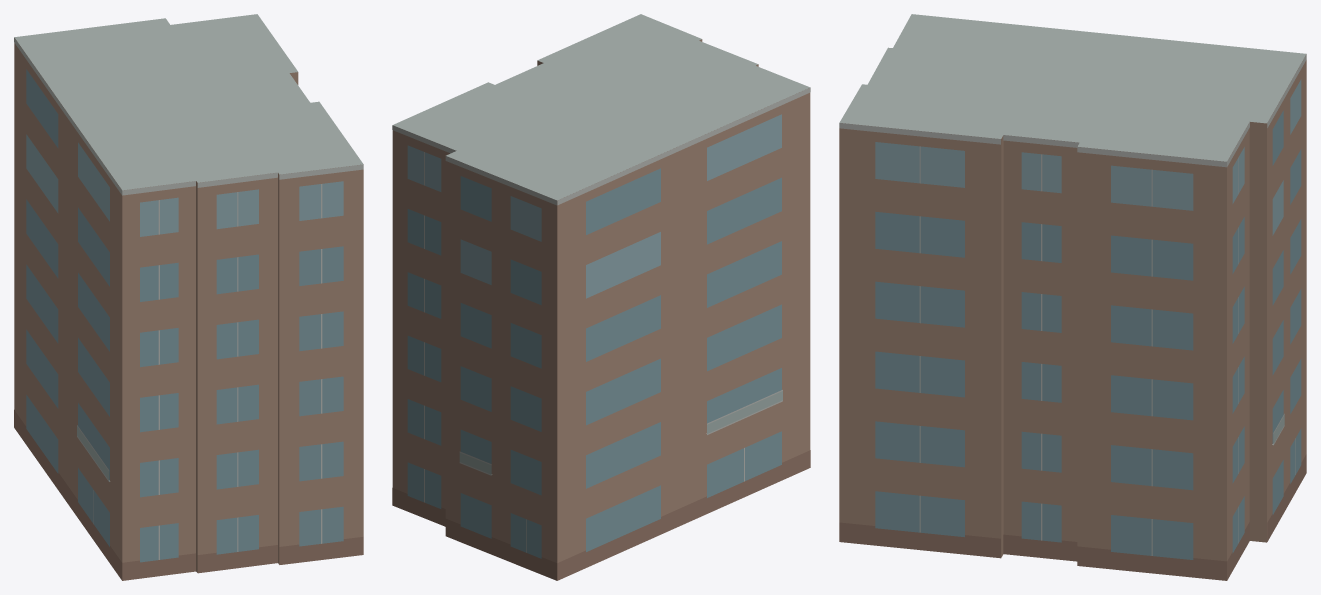
Rendered from survey-upis-32706601.glb.
The picture shows the model from 3 angles, left to right: view 1: azimuth 30°, elevation 25°; view 2: azimuth 150°, elevation 25°; view 3: azimuth 270°, elevation 25°; orthographic projection. The views are drawn at different scales.
Visible parts, largest first — view 1: survey-upis-32706601.tmp; view 2: survey-upis-32706601.tmp; view 3: survey-upis-32706601.tmp.
Part boxes in pixels (x1,y1,x2,y2): survey-upis-32706601.tmp: (14,14,363,580); survey-upis-32706601.tmp: (392,14,810,580); survey-upis-32706601.tmp: (839,14,1306,580).
Size of the model in its own units: 13.92 by 18.4 by 18.6.
